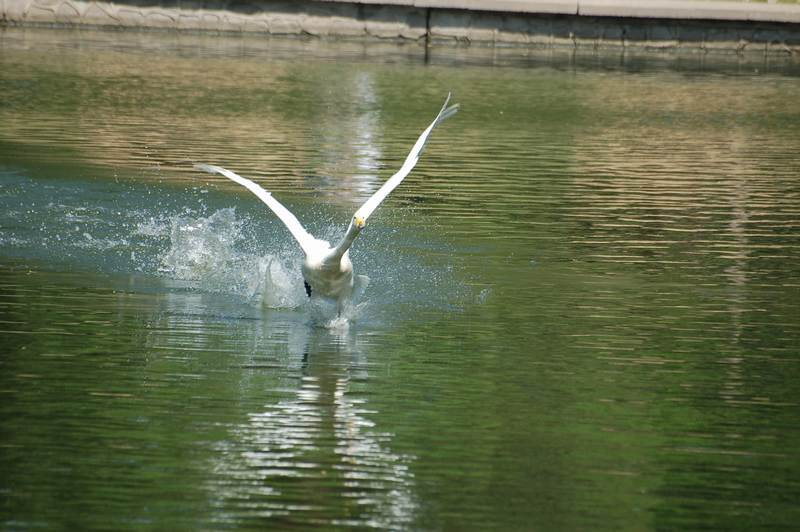bird: (171, 92, 468, 316)
